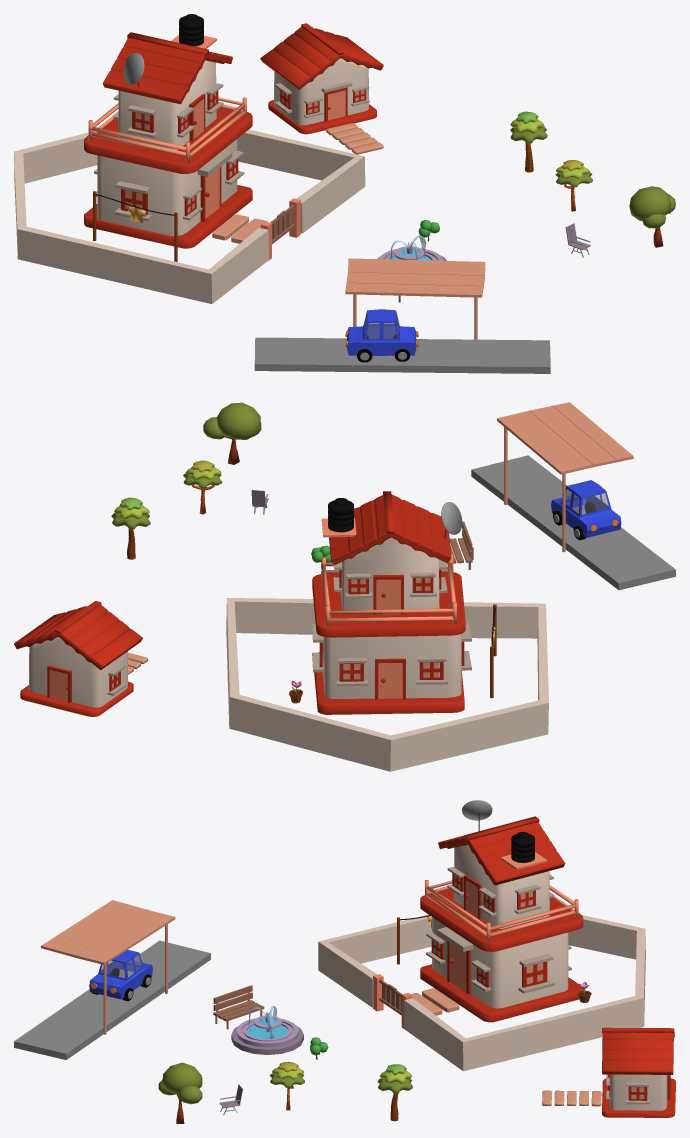
The model's file is Residence  Assets.fbx.
3 views of the same model, one above another, from view 1: azimuth 30°, elevation 25°; view 2: azimuth 150°, elevation 25°; view 3: azimuth 270°, elevation 25° (orthographic). The views are drawn at different scales.
Visible parts, largest first — view 1: house, main wall, Hut, driveway, shed, Car, Tree2, Tree1, Tree3, Fountain, Clothes rack; view 2: house, main wall, Hut, driveway, shed, Car, Tree2, Tree1, Tree3, Bench; view 3: house, main wall, Hut, driveway, shed, Fountain, Car, Tree2, Bench, Tree1, Tree3.
Boxes of the visible parts, x1,y1,x2,y2 form: house: [84, 14, 267, 248]; main wall: [14, 129, 365, 303]; Hut: [260, 23, 383, 154]; driveway: [254, 337, 550, 373]; shed: [345, 258, 485, 339]; Car: [345, 309, 418, 362]; Tree2: [629, 186, 675, 247]; Tree1: [510, 111, 547, 172]; Tree3: [555, 160, 592, 211]; Fountain: [377, 235, 446, 260]; Clothes rack: [93, 191, 177, 261]; house: [312, 491, 471, 714]; main wall: [226, 598, 548, 771]; Hut: [14, 601, 147, 716]; driveway: [471, 455, 675, 590]; shed: [497, 402, 633, 552]; Car: [551, 480, 621, 540]; Tree2: [203, 402, 261, 464]; Tree1: [111, 497, 150, 559]; Tree3: [183, 460, 222, 514]; Bench: [449, 521, 473, 569]; house: [411, 800, 583, 1022]; main wall: [318, 914, 645, 1071]; Hut: [542, 1027, 675, 1117]; driveway: [14, 940, 210, 1059]; shed: [41, 900, 175, 1034]; Fountain: [231, 1006, 303, 1054]; Car: [89, 950, 152, 1001]; Tree2: [158, 1062, 202, 1123]; Bench: [213, 985, 264, 1029]; Tree1: [377, 1064, 412, 1121]; Tree3: [269, 1061, 304, 1110].
Bounding box in the file's own units: 219 × 80.01 × 269.
